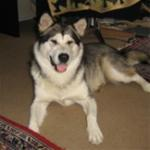dog: (27, 10, 149, 147)
